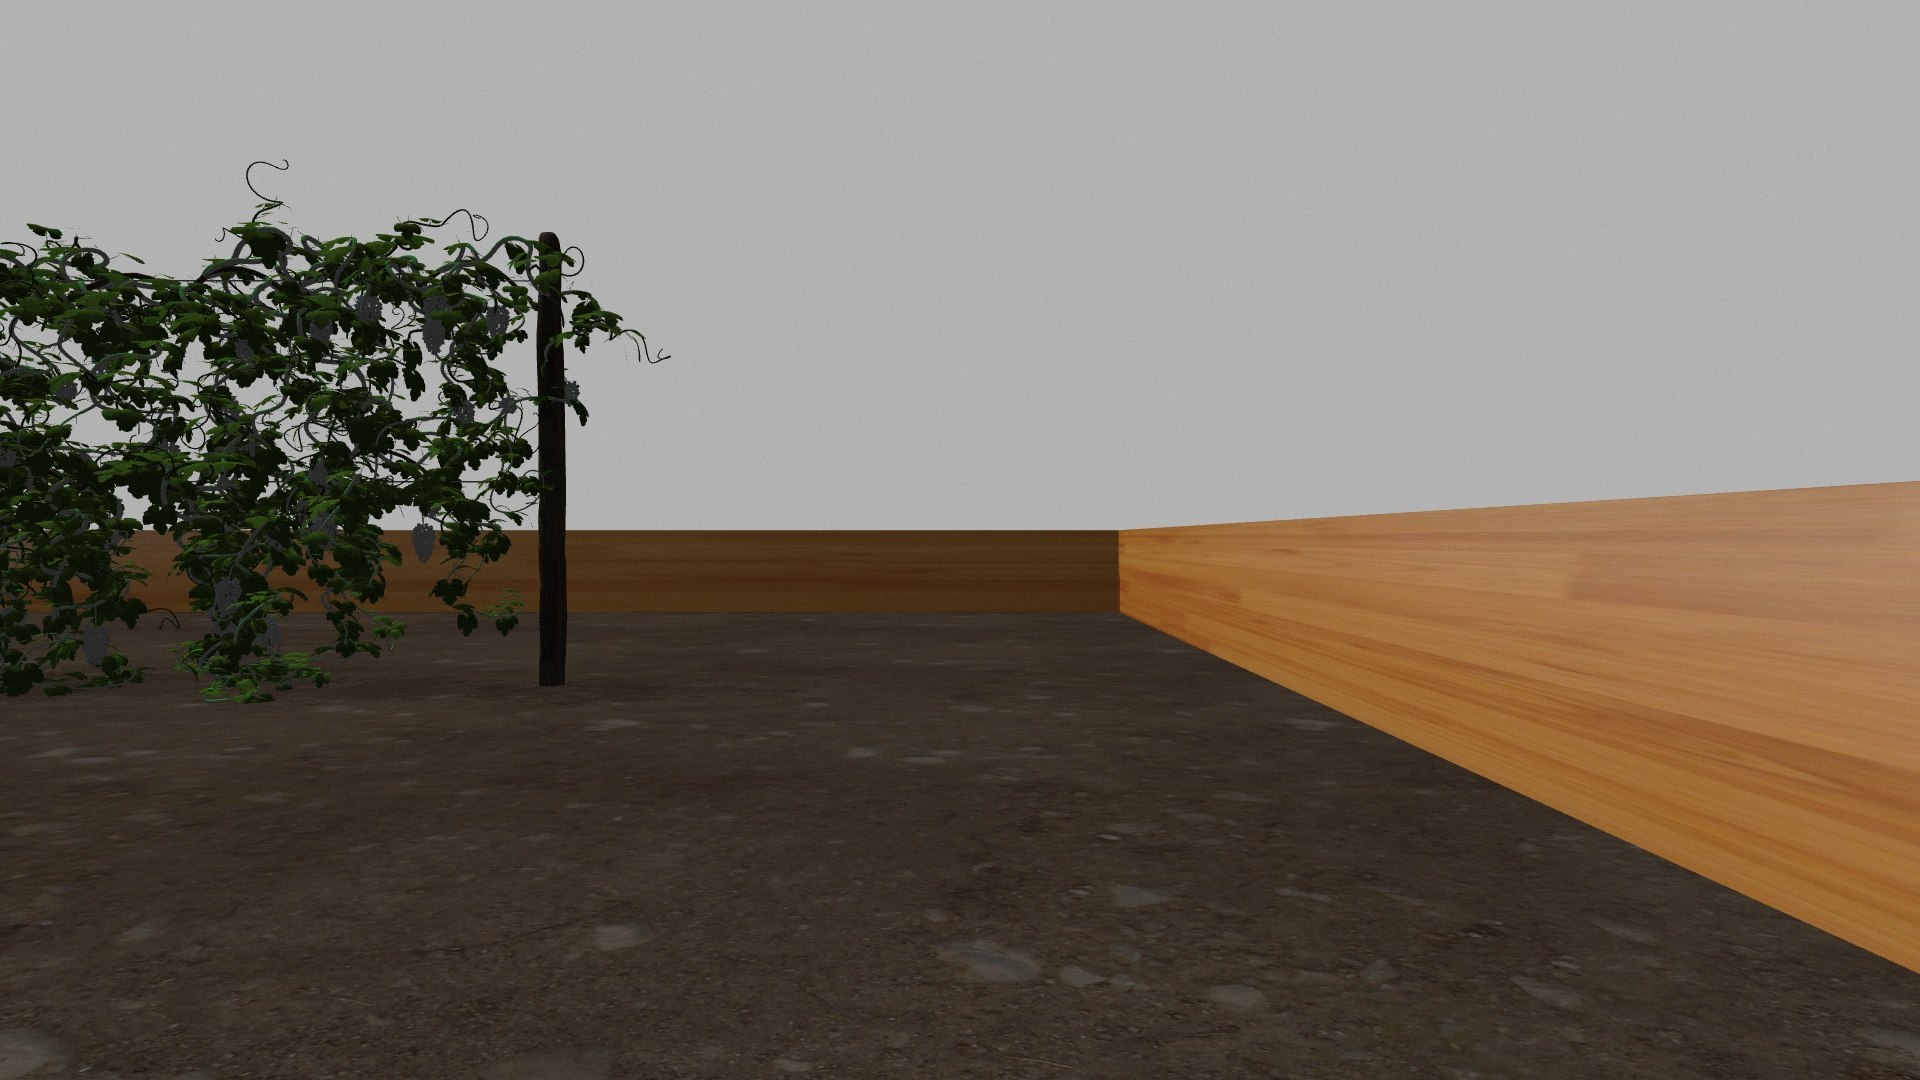grape: (80, 625, 113, 669), (214, 576, 243, 620), (411, 522, 436, 563), (353, 294, 382, 328), (425, 284, 448, 319), (487, 306, 510, 340), (310, 315, 334, 348), (423, 323, 446, 355), (257, 618, 280, 650), (309, 456, 328, 487), (564, 381, 582, 406)
